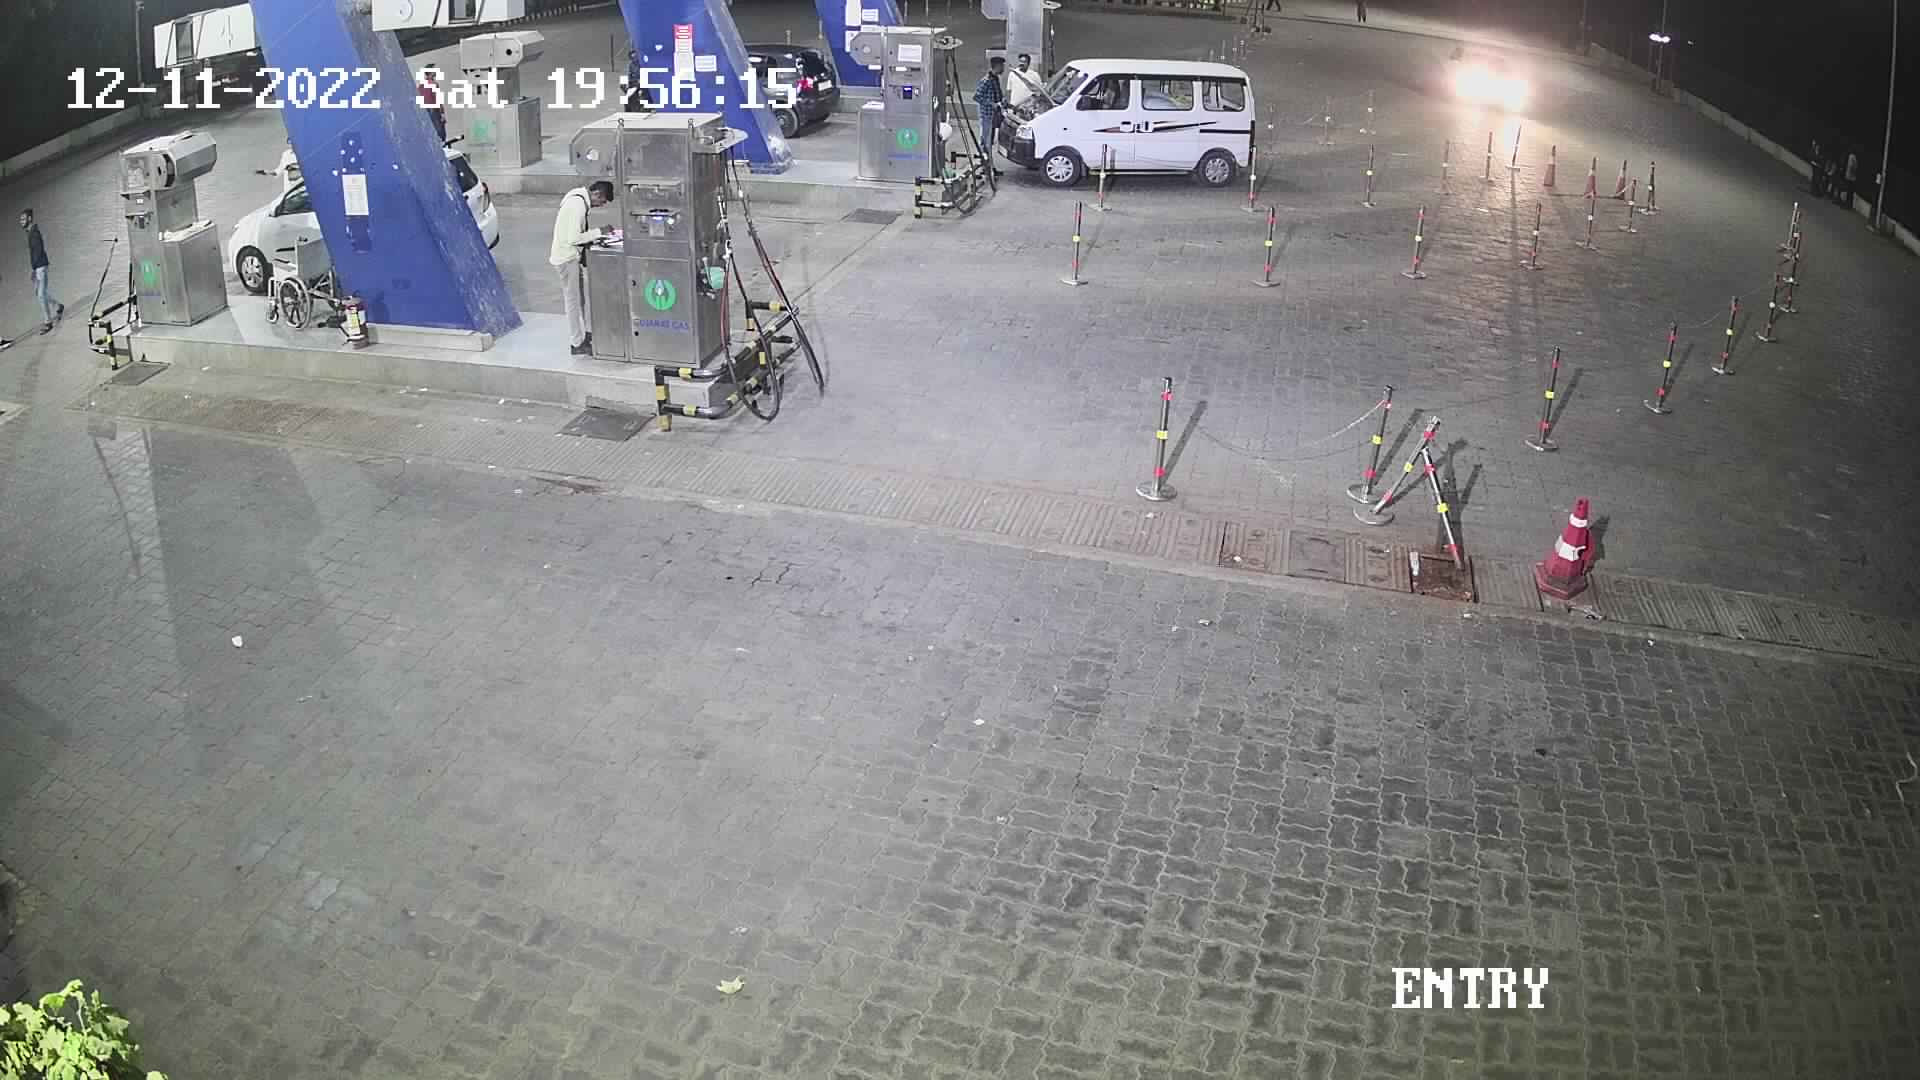Car: (1006, 33, 1271, 204), (216, 146, 339, 302), (735, 32, 851, 149), (1432, 26, 1542, 144)
